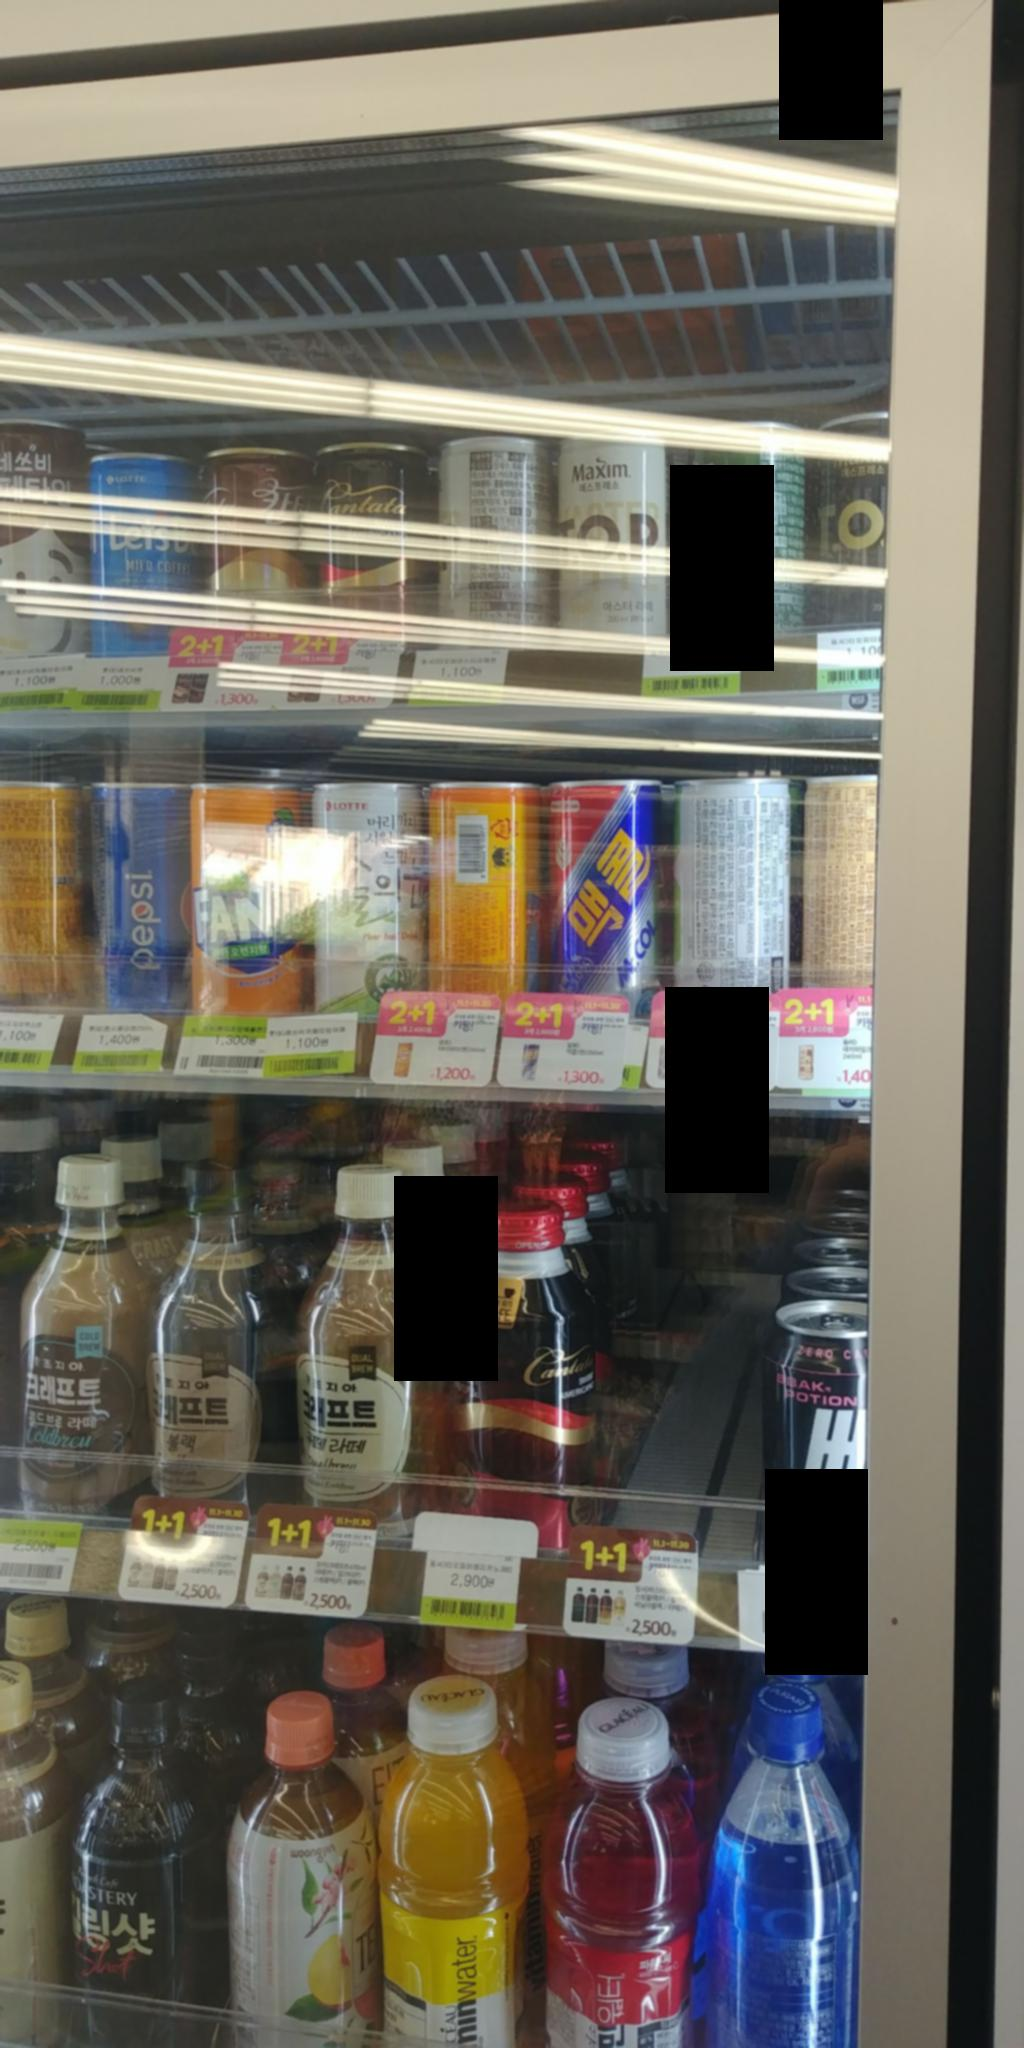georgiacraft_black: (144, 1172, 303, 1496)
letsbe: (94, 445, 204, 654)
